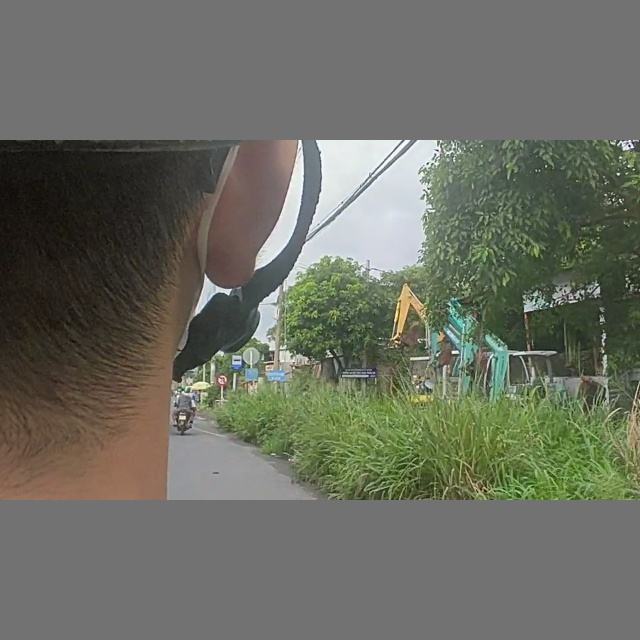I.434a: (231, 354, 243, 370)
P.123a: (217, 374, 229, 385)
